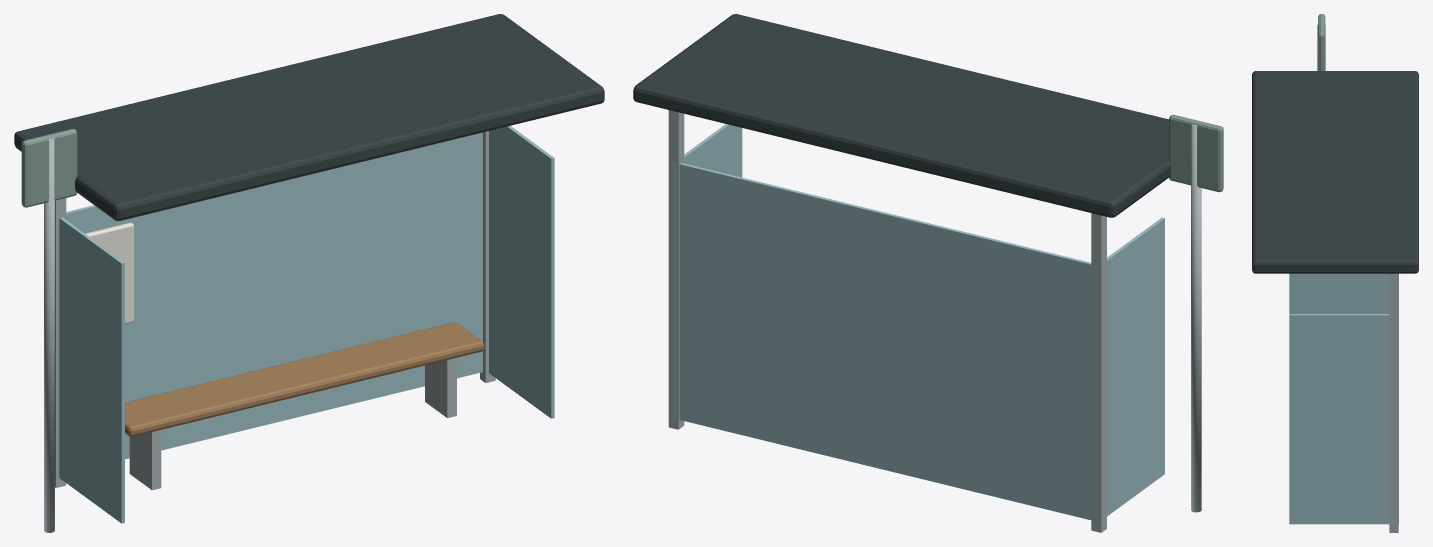
File: site-bus-shelter.glb
3 views of the same model, side by side, from view 1: azimuth 30°, elevation 25°; view 2: azimuth 150°, elevation 25°; view 3: azimuth 270°, elevation 25° (orthographic). The views are drawn at different scales.
Parts seen in each view (by area): view 1: site-bus-shelter_Shelter_safety_glass, site-bus-shelter_Anthracite_anodized_metal, site-bus-shelter_Weathered_warm_teak, site-bus-shelter_Galvanized_brushed_steel, site-bus-shelter_Sage_ceramic_cladding, site-bus-shelter_Warm_white_precast; view 2: site-bus-shelter_Shelter_safety_glass, site-bus-shelter_Anthracite_anodized_metal, site-bus-shelter_Galvanized_brushed_steel, site-bus-shelter_Sage_ceramic_cladding; view 3: site-bus-shelter_Anthracite_anodized_metal, site-bus-shelter_Shelter_safety_glass, site-bus-shelter_Galvanized_brushed_steel, site-bus-shelter_Sage_ceramic_cladding.
Boxes of the visible parts, x1,y1,x2,y2 form: site-bus-shelter_Shelter_safety_glass: (59, 125, 554, 523); site-bus-shelter_Anthracite_anodized_metal: (14, 14, 604, 220); site-bus-shelter_Weathered_warm_teak: (125, 322, 484, 436); site-bus-shelter_Galvanized_brushed_steel: (44, 131, 495, 532); site-bus-shelter_Sage_ceramic_cladding: (21, 129, 77, 207); site-bus-shelter_Warm_white_precast: (85, 222, 133, 323); site-bus-shelter_Shelter_safety_glass: (671, 124, 1164, 523); site-bus-shelter_Anthracite_anodized_metal: (633, 14, 1170, 217); site-bus-shelter_Galvanized_brushed_steel: (668, 110, 1201, 532); site-bus-shelter_Sage_ceramic_cladding: (1169, 114, 1223, 192); site-bus-shelter_Anthracite_anodized_metal: (1252, 71, 1418, 273); site-bus-shelter_Shelter_safety_glass: (1289, 273, 1398, 524); site-bus-shelter_Galvanized_brushed_steel: (1317, 24, 1398, 532); site-bus-shelter_Sage_ceramic_cladding: (1318, 14, 1325, 70).
Bounding box in the file's own units: 4.03 × 2.81 × 1.34.
